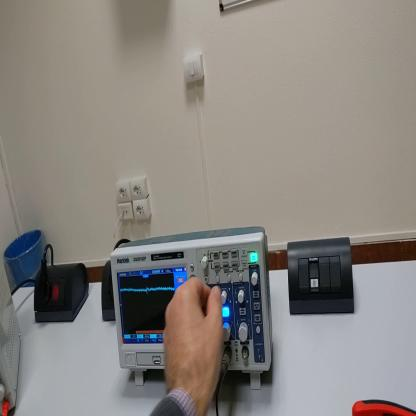hand: (162, 275, 226, 404)
oscilloscope: (111, 226, 274, 391)
pliers: (353, 399, 415, 416)
power supply: (2, 257, 22, 416)
socket: (36, 262, 92, 323), (100, 258, 117, 321)
